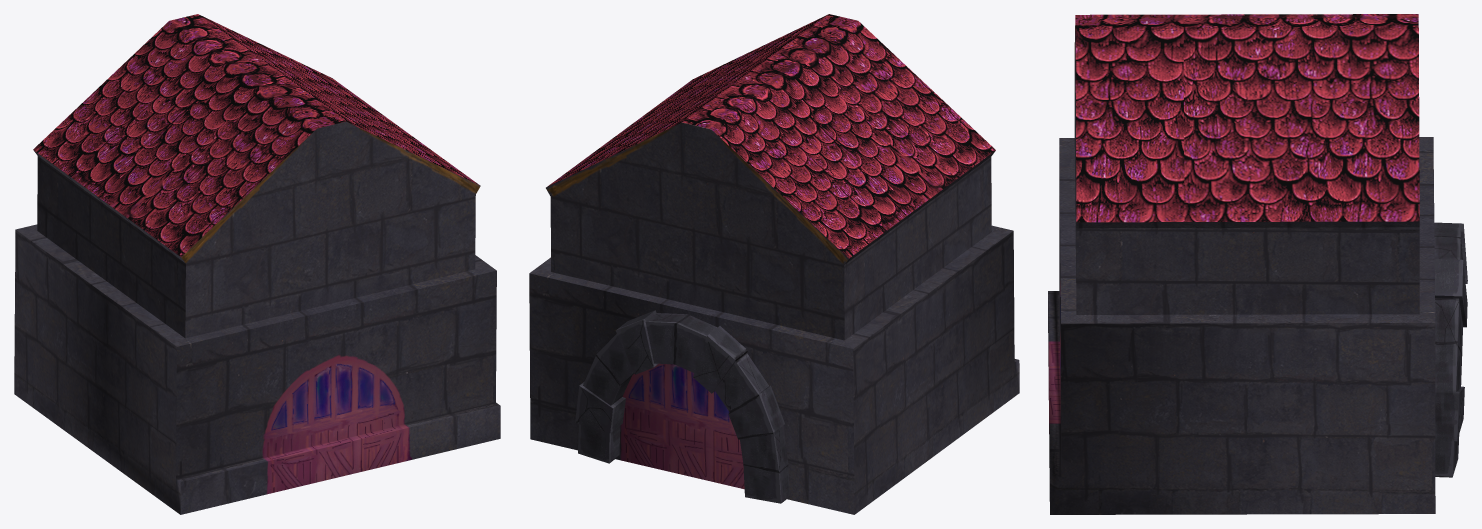
File: barn.fbx
3 views of the same model, side by side, from view 1: azimuth 30°, elevation 25°; view 2: azimuth 150°, elevation 25°; view 3: azimuth 270°, elevation 25° (orthographic). The views are drawn at different scales.
Visible parts, largest first — view 1: barn; view 2: barn; view 3: barn.
Boxes of the visible parts, bbox=[...] form: barn: bbox=[14, 14, 500, 514]; barn: bbox=[529, 14, 1019, 514]; barn: bbox=[1048, 14, 1467, 514].
Size of the model in its own units: 3.17 by 3.23 by 3.05.
